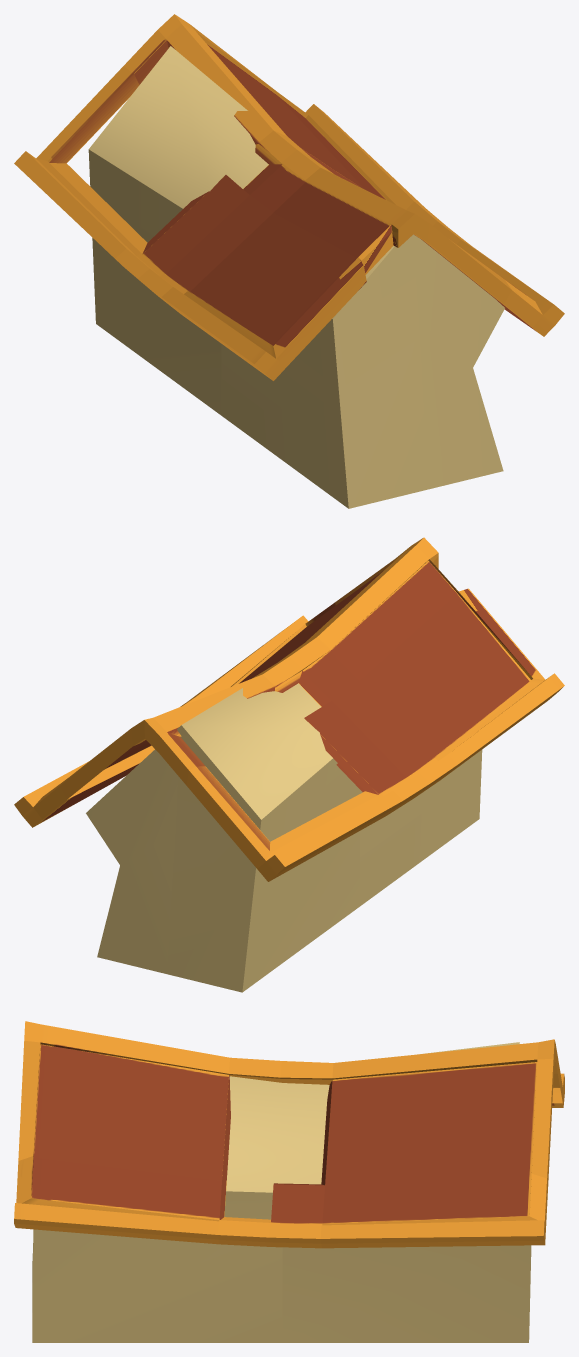
Rendered from destroyed house 1.fbx.
The picture shows the model from 3 angles, top to bottom: view 1: azimuth 30°, elevation 25°; view 2: azimuth 150°, elevation 25°; view 3: azimuth 270°, elevation 25°; orthographic projection. The views are drawn at different scales.
Parts seen in each view (by area): view 1: maison_1:pCube84, toit_1:toiture_1_LD; view 2: maison_1:pCube84, toit_1:toiture_1_LD; view 3: toit_1:toiture_1_LD, maison_1:pCube84.
Part boxes in pixels (x1,y1,x2,y2): maison_1:pCube84: (88, 46, 504, 508); toit_1:toiture_1_LD: (14, 14, 564, 380); maison_1:pCube84: (86, 683, 482, 992); toit_1:toiture_1_LD: (14, 537, 564, 881); toit_1:toiture_1_LD: (14, 1021, 564, 1248); maison_1:pCube84: (32, 1042, 531, 1342).
Bounding box in the file's own units: 5025 × 4126 × 7424.
